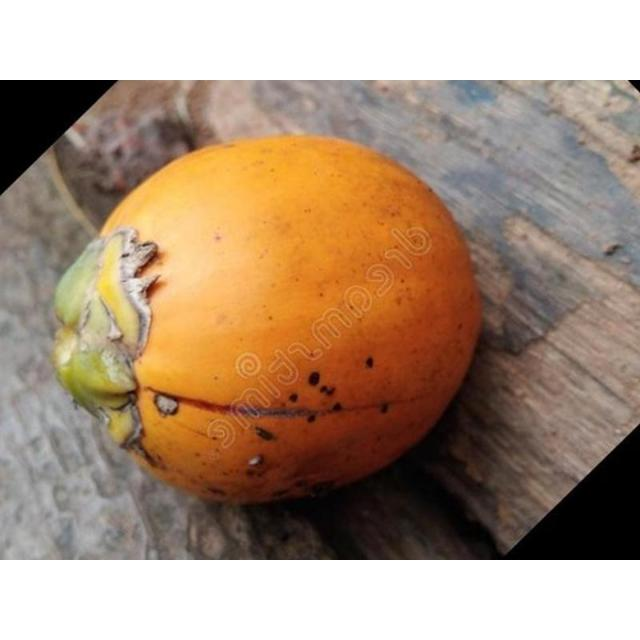good: (48, 136, 484, 510)
